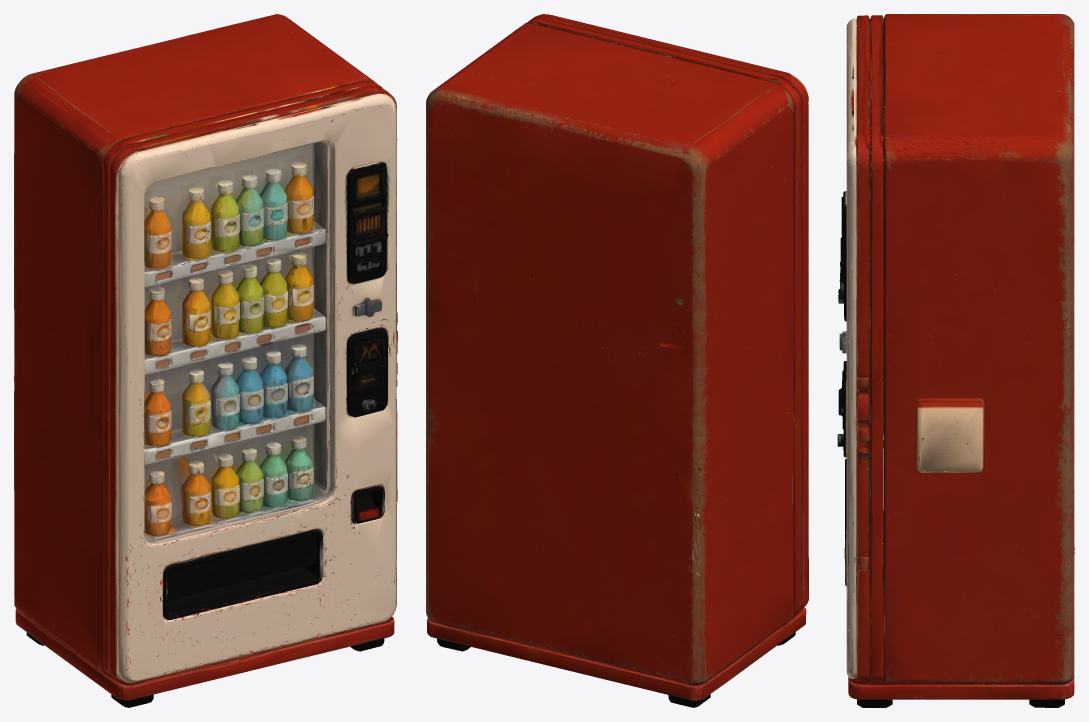
Rendered from vending-optimized.glb.
3 views of the same model, side by side, from view 1: azimuth 30°, elevation 25°; view 2: azimuth 150°, elevation 25°; view 3: azimuth 270°, elevation 25° (orthographic).
Parts seen in each view (by area): view 1: node_0; view 2: node_0; view 3: node_0.
Part boxes in pixels (x1,y1,x2,y2): node_0: (14,14,397,707); node_0: (426,14,808,707); node_0: (837,14,1074,707).
Size of the model in its own units: 0.5503 by 1.04 by 0.3915.
1 material, 1 textured.
